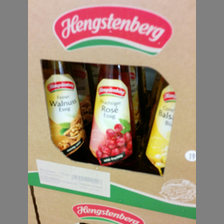vinegar: (89, 65, 139, 171), (41, 60, 87, 161), (145, 69, 179, 181)
